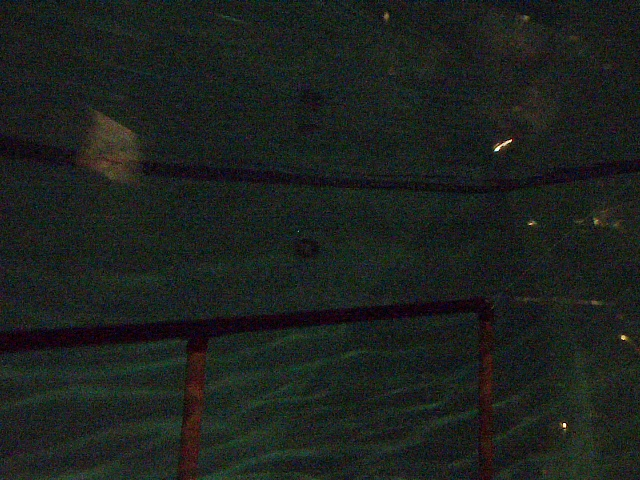Gate: (474, 309, 502, 480), (179, 344, 211, 480)
